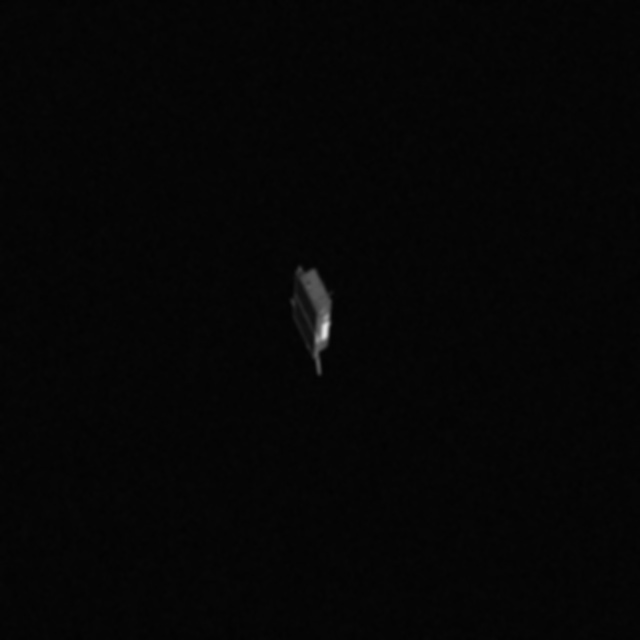medium_debris: (288, 264, 348, 378)
